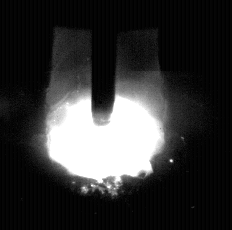arame: (92, 0, 117, 125)
poca: (46, 0, 164, 230)
